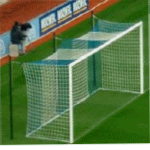goals: (22, 17, 150, 146)
